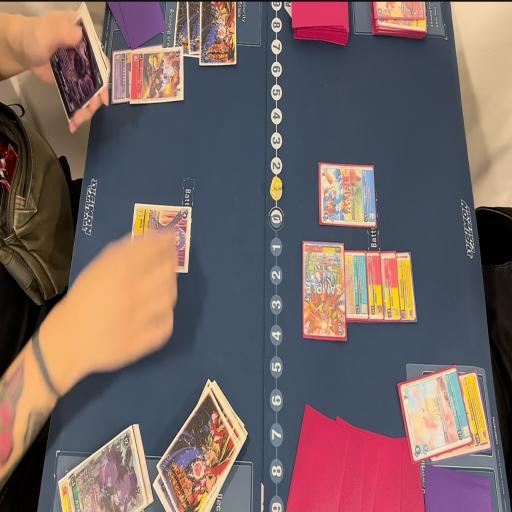card: (395, 364, 468, 464), (70, 425, 149, 512), (48, 19, 103, 123), (129, 198, 195, 275), (301, 240, 345, 345), (131, 45, 184, 111), (320, 164, 374, 226), (462, 368, 490, 458), (346, 250, 370, 325), (380, 245, 402, 320), (111, 46, 133, 110), (397, 245, 415, 321), (366, 254, 384, 324), (372, 0, 426, 19), (60, 471, 75, 512)
